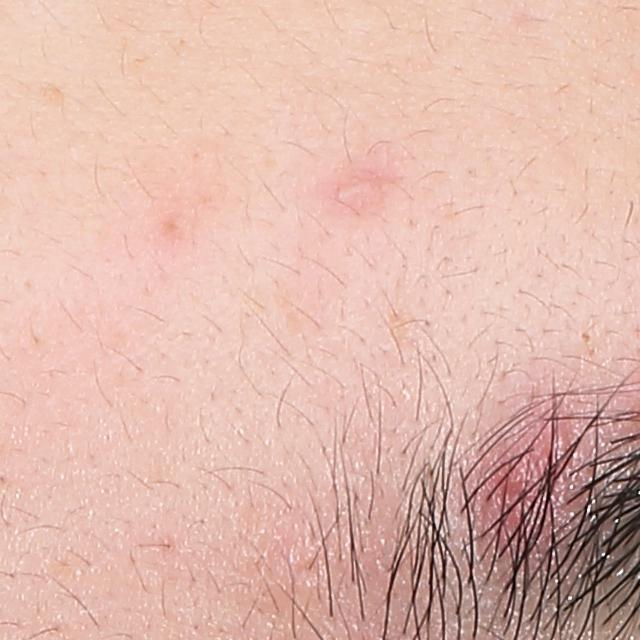comedo: (577, 329, 596, 347)
